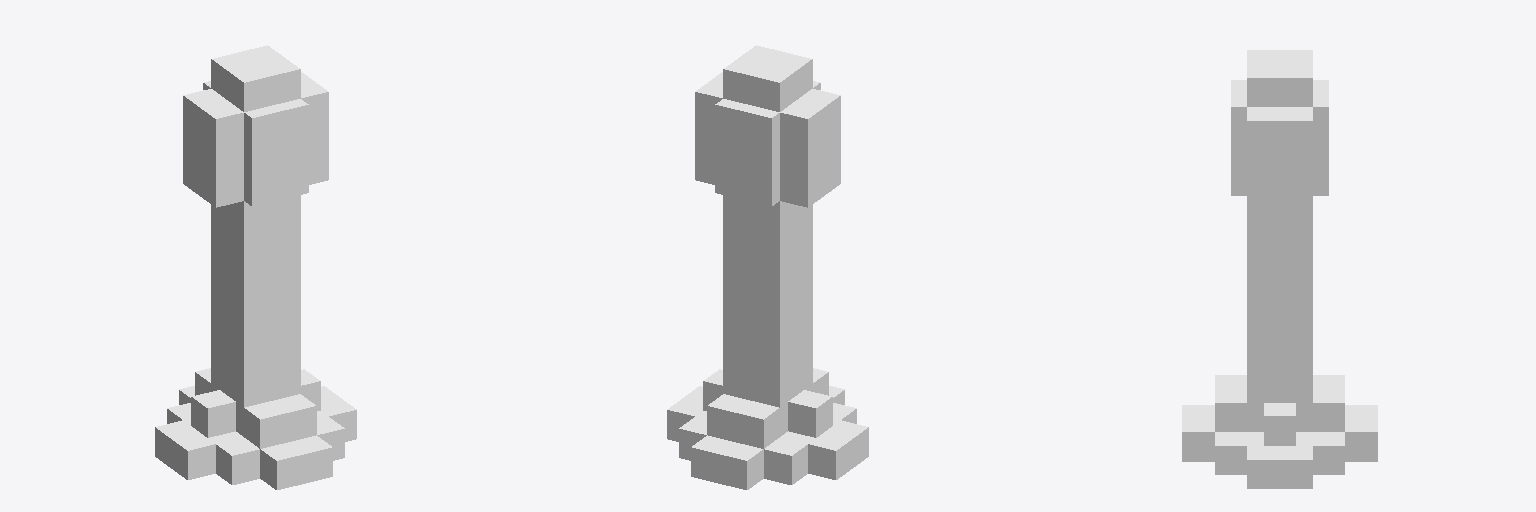
The model's file is bishop.obj.
The picture shows the model from 3 angles: view 1: azimuth 30°, elevation 25°; view 2: azimuth 150°, elevation 25°; view 3: azimuth 270°, elevation 25°; orthographic projection.
Bounding box in the file's own units: 6 × 13 × 6.